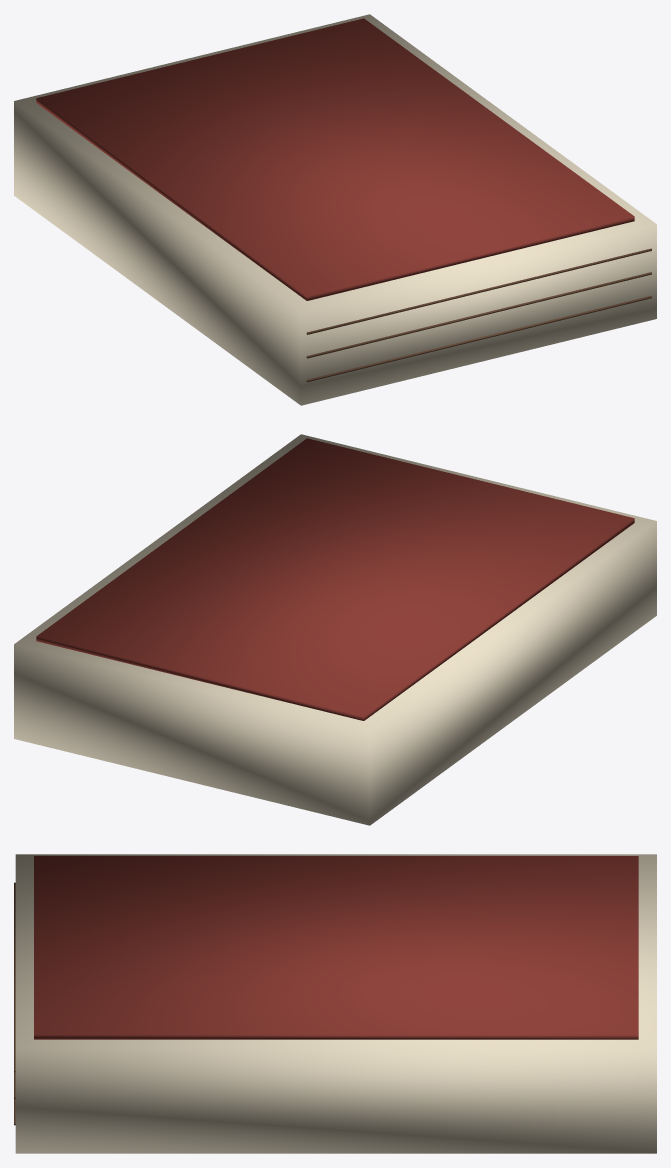
The model's file is deck.glb.
3 renders of one model, top to bottom at view 1: azimuth 30°, elevation 25°; view 2: azimuth 150°, elevation 25°; view 3: azimuth 270°, elevation 25°, orthographic. The views are drawn at different scales.
Visible parts, largest first — view 1: prop_deck; view 2: prop_deck; view 3: prop_deck.
Boxes of the visible parts, <box> form: prop_deck: <box>14,14,656,405</box>; prop_deck: <box>14,434,656,825</box>; prop_deck: <box>14,854,656,1153</box>.
Bounding box in the file's own units: 0.063 × 0.0169 × 0.0883.
